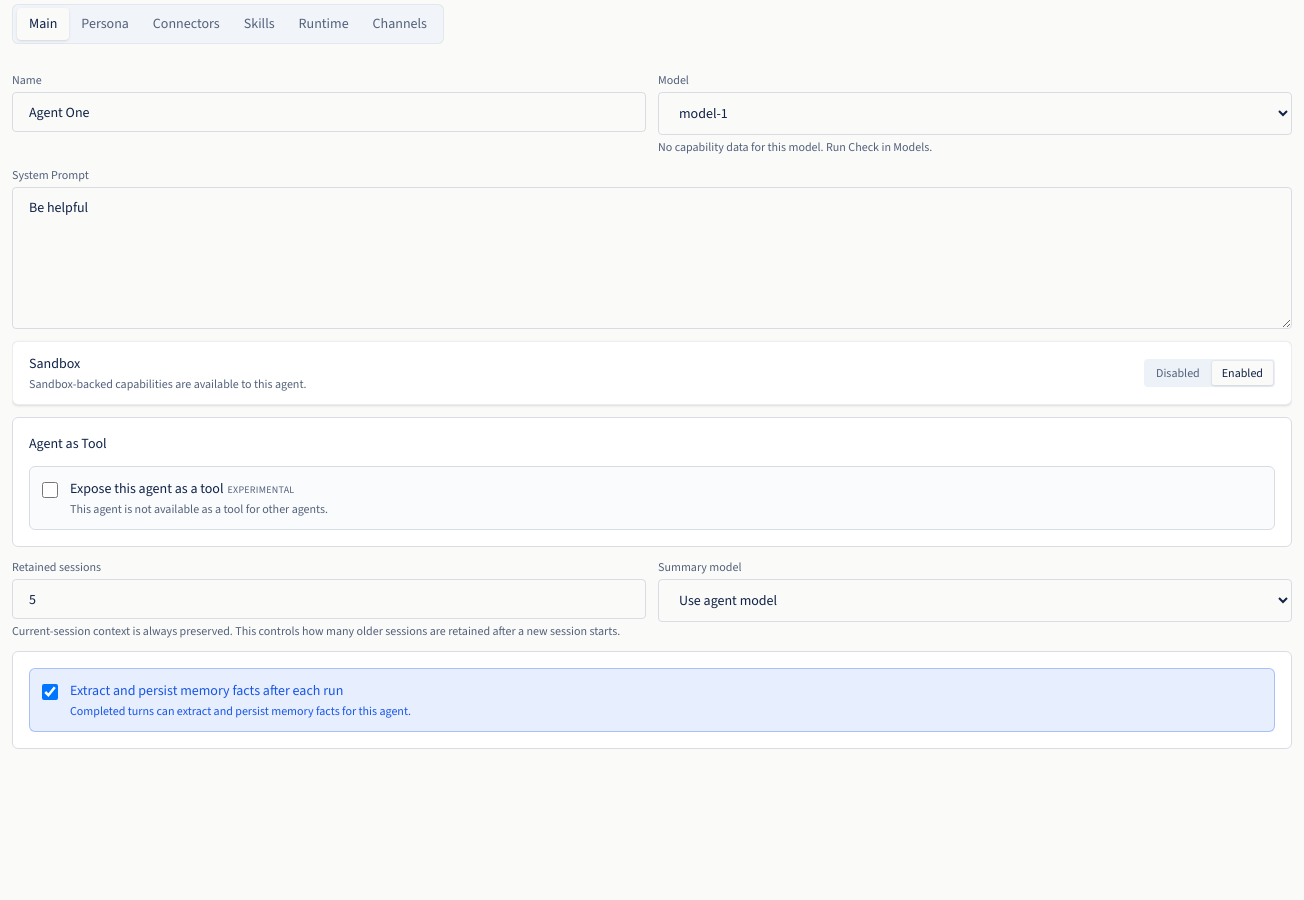
agent channels tab › keeps the agent on the account bot until a separate bot is chosen
This screenshot has width=1304, height=900.
Click the tab "Channels" at x=400, y=24, box [361,8,439,40]
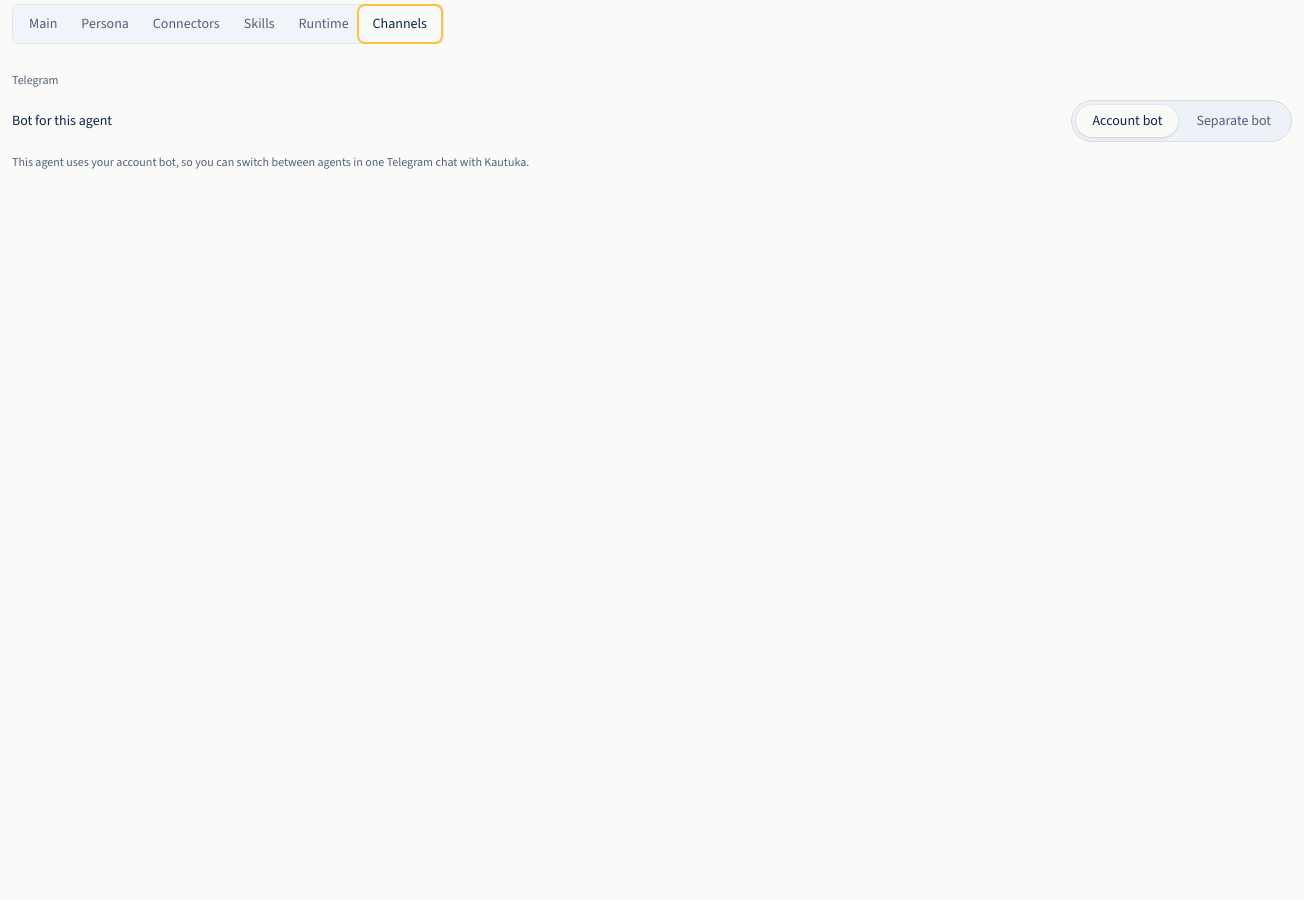
Result: the text "This agent uses your account bot, so you can switch between agents in one Telegram chat with Kautuka." is shown at [12,154,529,170]
